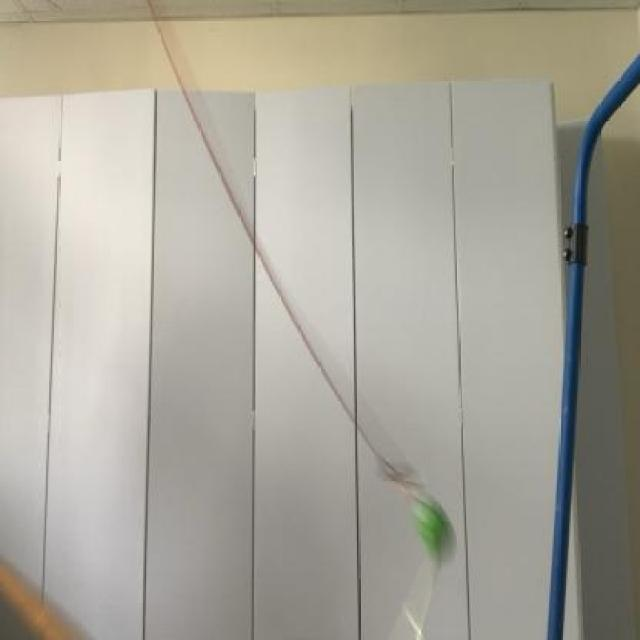baseball: (395, 478, 460, 560)
